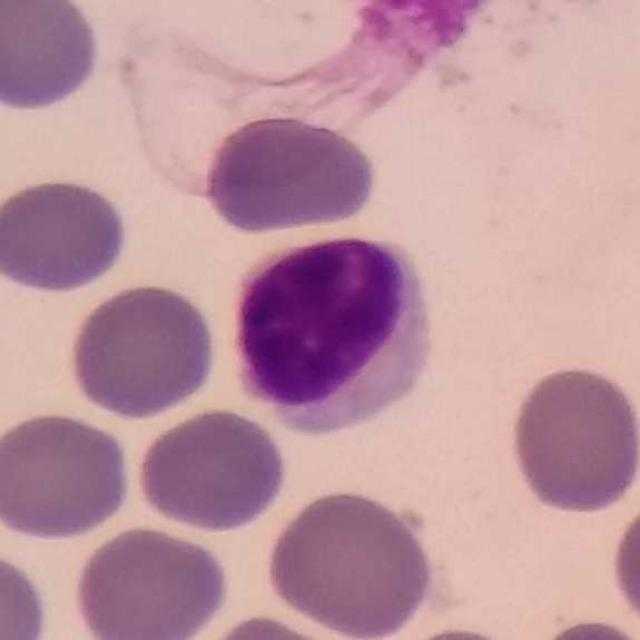Lymphocyte: (222, 226, 444, 437)
RBC: (120, 1, 409, 98), (262, 485, 438, 640), (197, 109, 383, 237), (64, 278, 222, 422), (504, 362, 640, 518), (132, 404, 293, 535), (69, 522, 233, 640), (0, 406, 136, 543), (0, 173, 134, 296), (0, 0, 106, 117), (186, 610, 374, 640), (606, 486, 640, 635), (0, 544, 52, 639), (521, 614, 640, 640), (376, 622, 536, 640)
